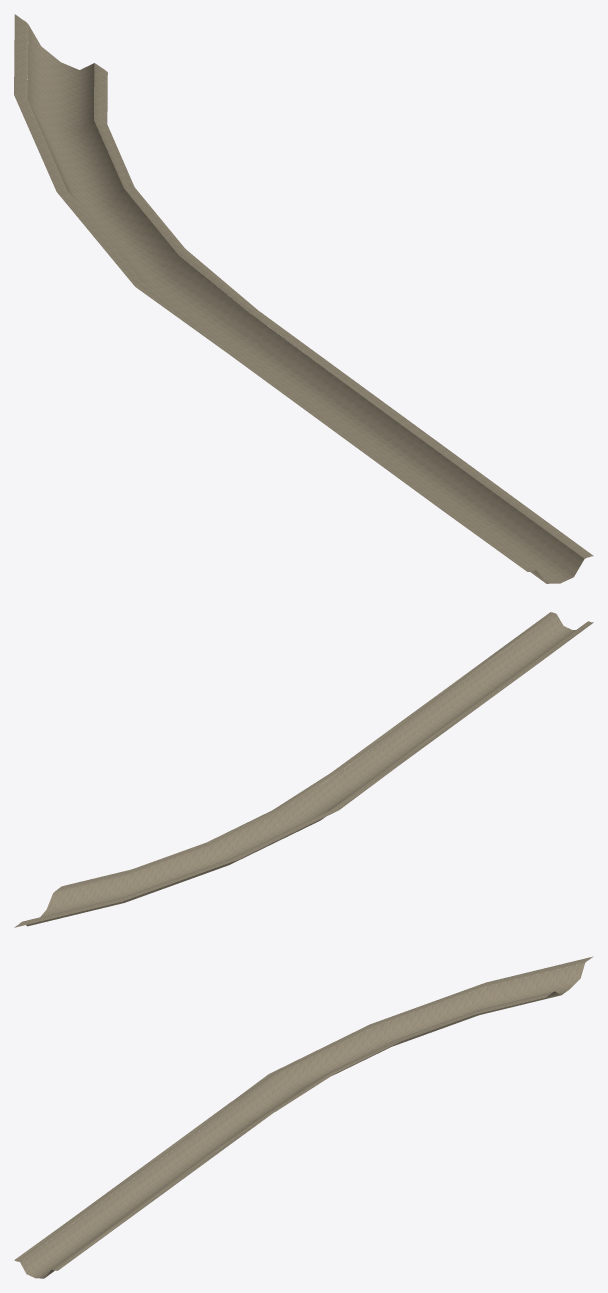
File: river.fbx
3 renders of one model, top to bottom at view 1: azimuth 30°, elevation 25°; view 2: azimuth 150°, elevation 25°; view 3: azimuth 330°, elevation 25°, orthographic. The views are drawn at different scales.
Parts seen in each view (by area): view 1: Plane002; view 2: Plane002; view 3: Plane002.
Part boxes in pixels (box(x1,y1,x2,y2)): Plane002: box(14, 14, 593, 583); Plane002: box(14, 612, 593, 927); Plane002: box(14, 956, 593, 1278).
Bounding box in the file's own units: 0.0234 × 0.1428 × 0.00233.
Materials: 1 (1 with a texture image).
